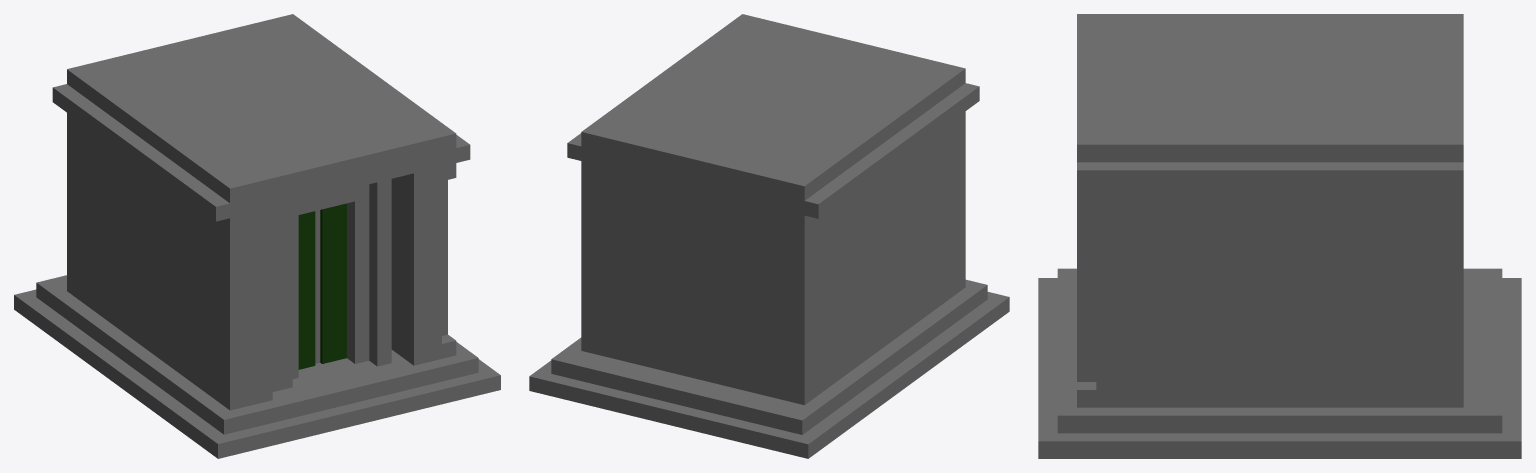
File: Masoleum2-1-LOD1.obj
The picture shows the model from 3 angles, left to right: view 1: azimuth 30°, elevation 25°; view 2: azimuth 150°, elevation 25°; view 3: azimuth 270°, elevation 25°; orthographic projection. The views are drawn at different scales.
Parts seen in each view (by area): view 1: LOD1; view 2: LOD1; view 3: LOD1.
Boxes of the visible parts, x1=… form: LOD1: x1=14, y1=14, x2=500, y2=458; LOD1: x1=529, y1=14, x2=1009, y2=458; LOD1: x1=1038, y1=14, x2=1521, y2=458.
Bounding box in the file's own units: 8 × 6.8 × 10.
1 material, 1 textured.
